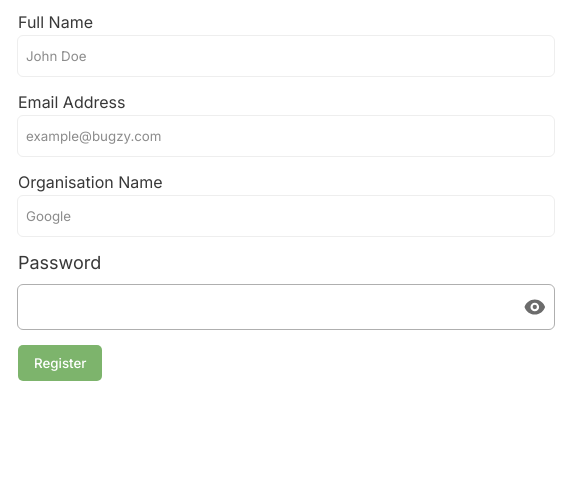
SignupForm › should display 'required' errors when values are empty
Click the button "Register" at (60, 363), box [18,345,102,381]
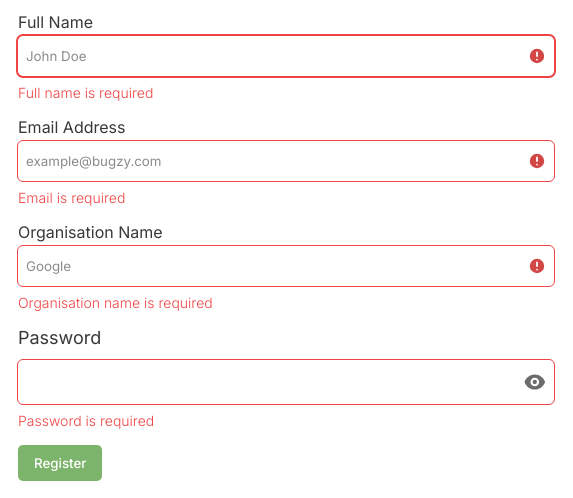
Check: the text "Full name is required" is shown, box [18,84,153,101]
Check: the text "Email is required" is shown, box [18,189,125,206]
Check: the text "Organisation name is required" is shown, box [18,294,213,311]
